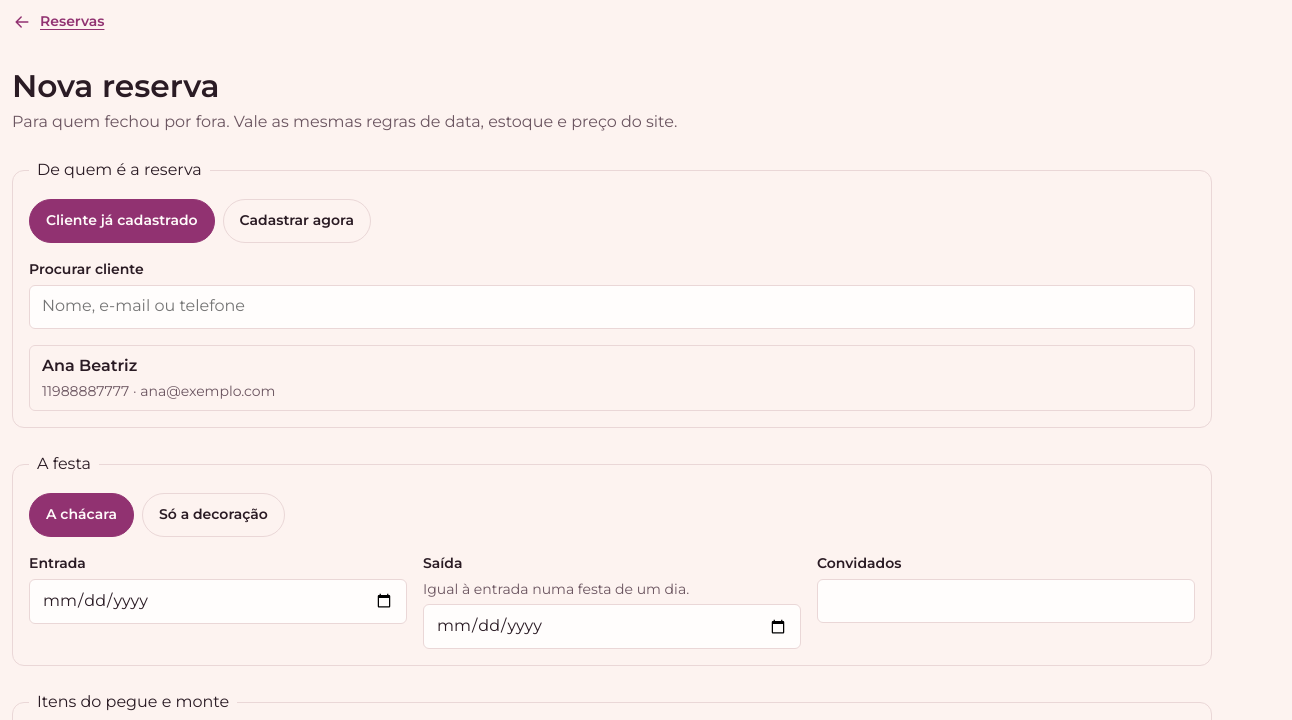
Test: NewBookingPage › troca para o cadastro na hora
Click the button "Cadastrar agora" at x=297, y=221, box [223,199,371,243]
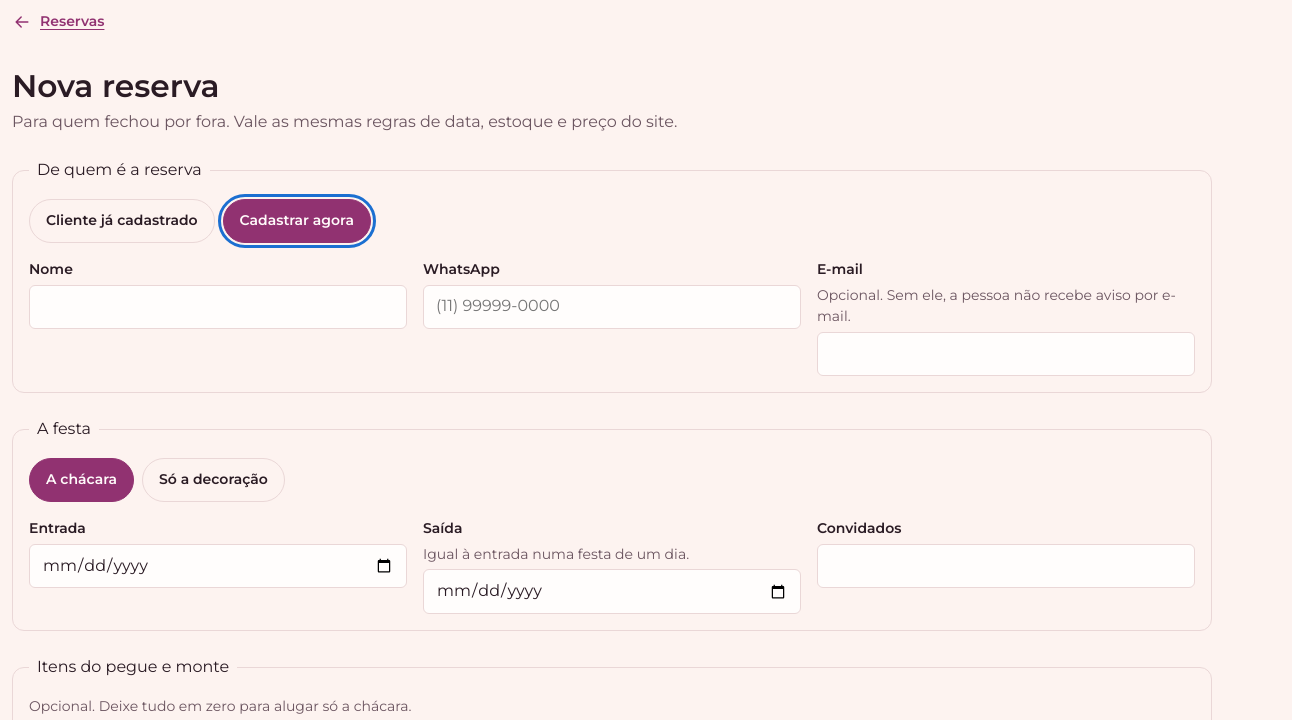
Expected: the field labelled "Nome" is shown, [29,285,407,329]
Expected: the field labelled "WhatsApp" is shown, [423,285,801,329]
Expected: the label labelled "Procurar cliente" is gone
